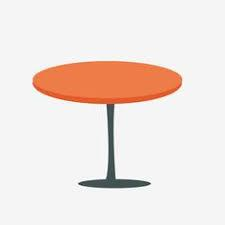desk: (28, 40, 194, 205)
